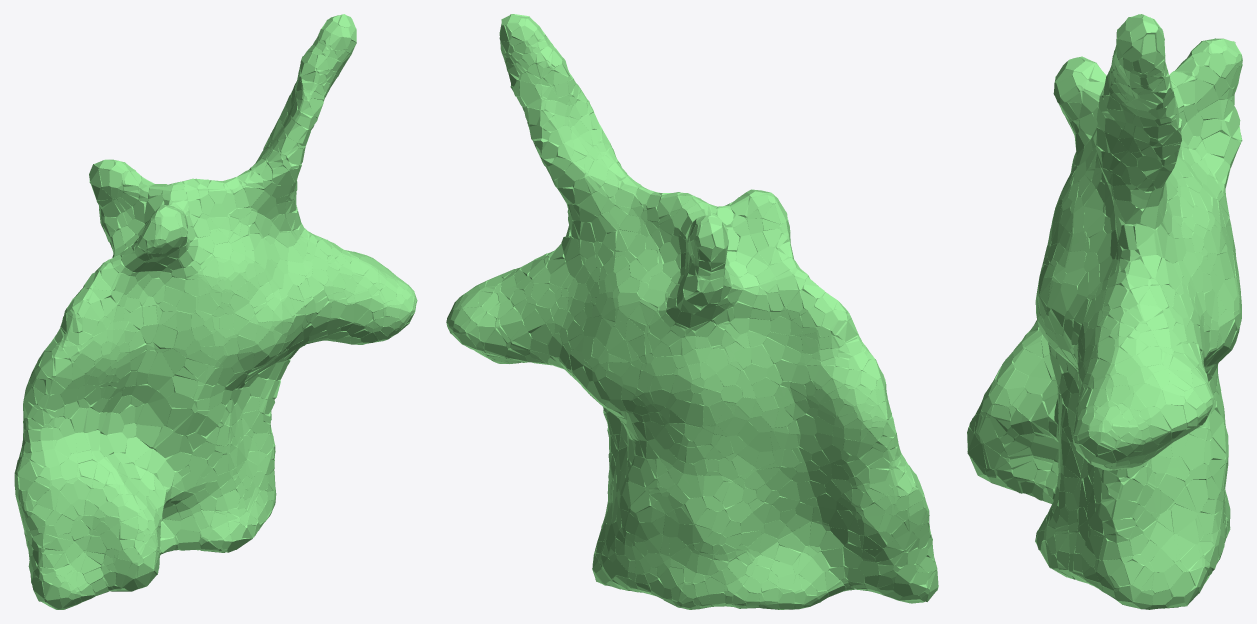
Rendered from 55932_1pct_vorolight.glb.
3 views of the same model, side by side, from view 1: azimuth 30°, elevation 25°; view 2: azimuth 150°, elevation 25°; view 3: azimuth 270°, elevation 25° (orthographic). The views are drawn at different scales.
Visible parts, largest first — view 1: 55932_shape50_normal10_noise_1pct_voronoi_mesh_surface.obj; view 2: 55932_shape50_normal10_noise_1pct_voronoi_mesh_surface.obj; view 3: 55932_shape50_normal10_noise_1pct_voronoi_mesh_surface.obj.
Boxes of the visible parts, x1,y1,x2,y2 form: 55932_shape50_normal10_noise_1pct_voronoi_mesh_surface.obj: (14, 14, 417, 609); 55932_shape50_normal10_noise_1pct_voronoi_mesh_surface.obj: (446, 14, 938, 609); 55932_shape50_normal10_noise_1pct_voronoi_mesh_surface.obj: (967, 14, 1242, 609).
Size of the model in its own units: 1.23 by 1.4 by 0.5351.
